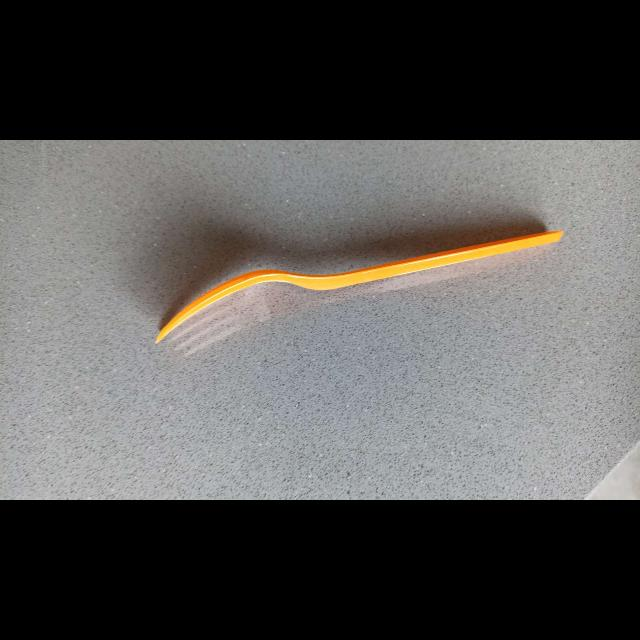plastic_cultery: (151, 225, 565, 345)
